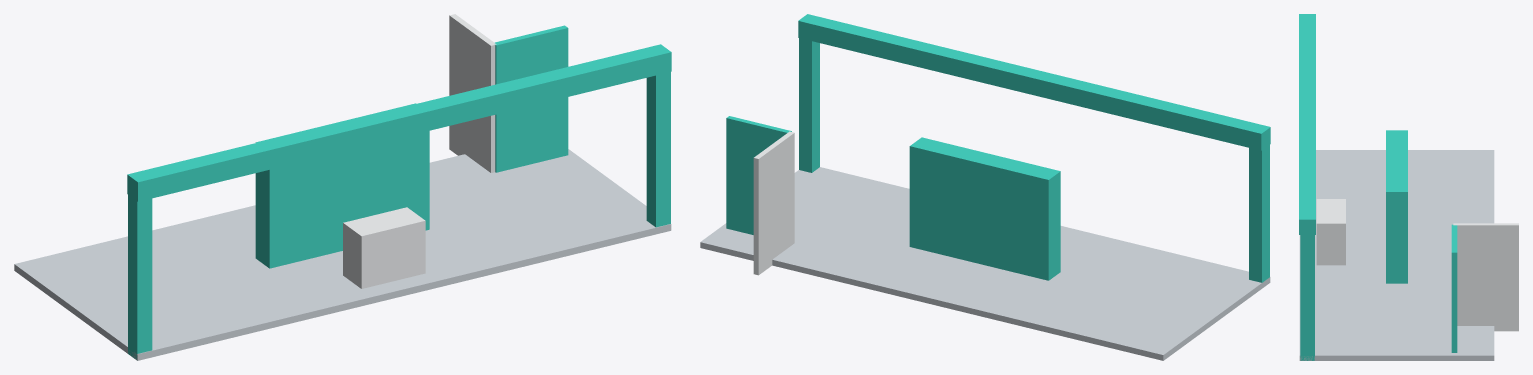
3 renders of one model, left to right at view 1: azimuth 30°, elevation 25°; view 2: azimuth 150°, elevation 25°; view 3: azimuth 270°, elevation 25°, orthographic. The views are drawn at different scales.
Parts seen in each view (by area): view 1: Exhibition Booth Concept; view 2: Exhibition Booth Concept; view 3: Exhibition Booth Concept.
Part boxes in pixels (x1=…): Exhibition Booth Concept: x1=14, y1=14, x2=671, y2=360; Exhibition Booth Concept: x1=700, y1=14, x2=1270, y2=360; Exhibition Booth Concept: x1=1299, y1=14, x2=1518, y2=360.
Size of the model in its own units: 10 by 3.2 by 4.52.
